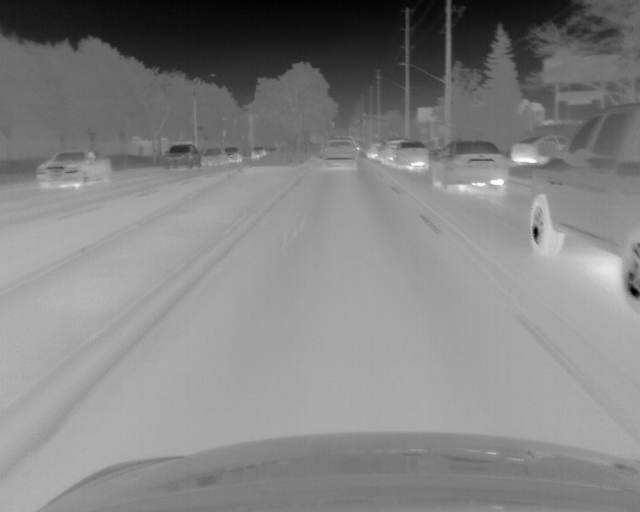car: (526, 104, 640, 313), (432, 139, 508, 192), (35, 148, 112, 186), (512, 134, 568, 163), (321, 139, 356, 171), (393, 141, 427, 169), (161, 144, 200, 168), (203, 145, 229, 167), (379, 137, 394, 164), (225, 145, 241, 163), (251, 146, 265, 160), (368, 141, 378, 158)
